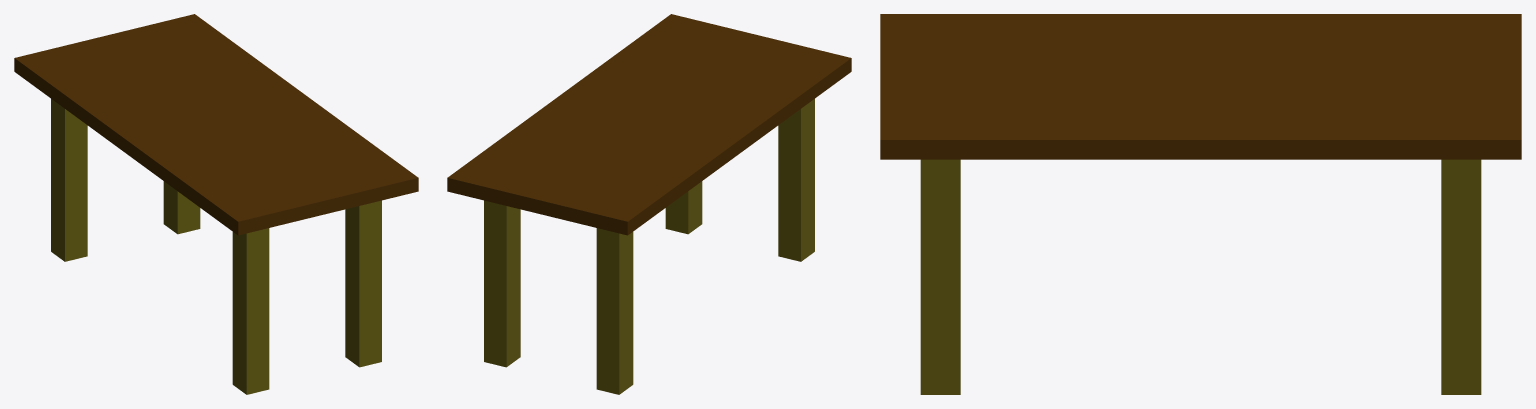
File: Table.fbx
3 renders of one model, left to right at view 1: azimuth 30°, elevation 25°; view 2: azimuth 150°, elevation 25°; view 3: azimuth 270°, elevation 25°, orthographic. The views are drawn at different scales.
Parts seen in each view (by area): view 1: Cube; view 2: Cube; view 3: Cube.
Part boxes in pixels (left/top/right/bottom): Cube: left=14, top=14, right=418, bottom=394; Cube: left=447, top=14, right=851, bottom=394; Cube: left=880, top=14, right=1521, bottom=394.
Size of the model in its own units: 244 by 244 by 525.
